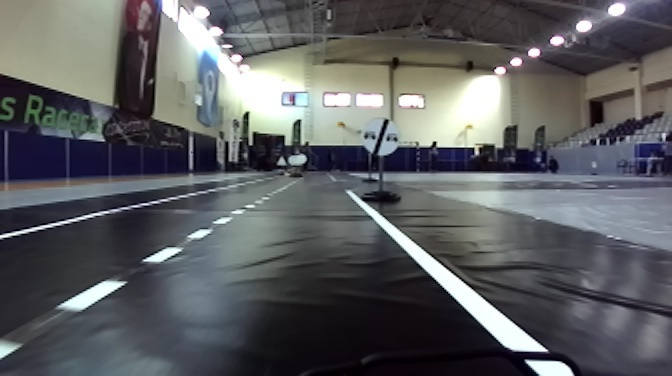sollama_serbest: (362, 119, 400, 156)
